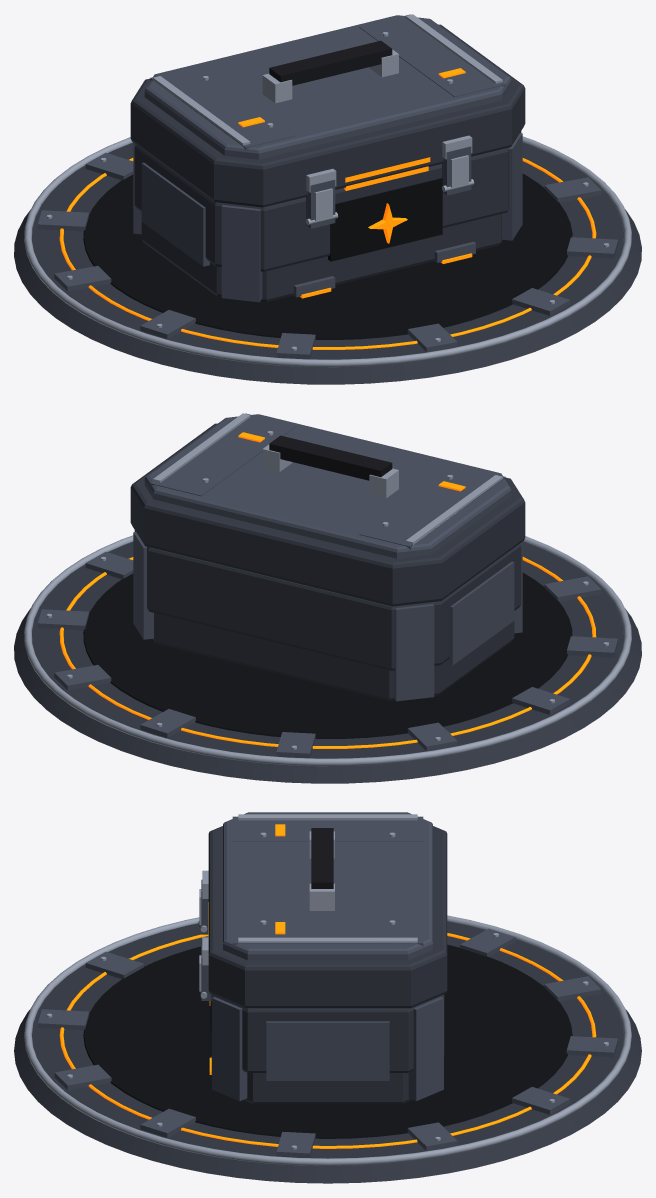
The model's file is asrar-toolbox.glb.
The picture shows the model from 3 angles, top to bottom: view 1: azimuth 30°, elevation 25°; view 2: azimuth 150°, elevation 25°; view 3: azimuth 270°, elevation 25°; orthographic projection.
Visible parts, largest first — view 1: PlatformGroup, LidGroup, BaseGroup, TopHandle, LatchRight, LatchLeft; view 2: PlatformGroup, LidGroup, BaseGroup, TopHandle; view 3: PlatformGroup, LidGroup, BaseGroup, TopHandle, LatchRight, LatchLeft.
Boxes of the visible parts, bbox=[...] form: PlatformGroup: bbox=[14, 136, 641, 384]; LidGroup: bbox=[130, 14, 525, 207]; BaseGroup: bbox=[133, 131, 522, 302]; TopHandle: bbox=[262, 40, 398, 103]; LatchRight: bbox=[442, 135, 474, 195]; LatchLeft: bbox=[306, 168, 338, 228]; PlatformGroup: bbox=[14, 535, 641, 783]; LidGroup: bbox=[130, 413, 525, 606]; BaseGroup: bbox=[133, 530, 522, 701]; TopHandle: bbox=[262, 435, 398, 498]; PlatformGroup: bbox=[14, 915, 641, 1183]; LidGroup: bbox=[208, 812, 447, 1008]; BaseGroup: bbox=[209, 994, 444, 1104]; TopHandle: bbox=[309, 828, 334, 910]; LatchRight: bbox=[199, 937, 211, 1000]; LatchLeft: bbox=[199, 870, 208, 934].
Bounding box in the file's own units: 4.48 × 1.56 × 4.48.
